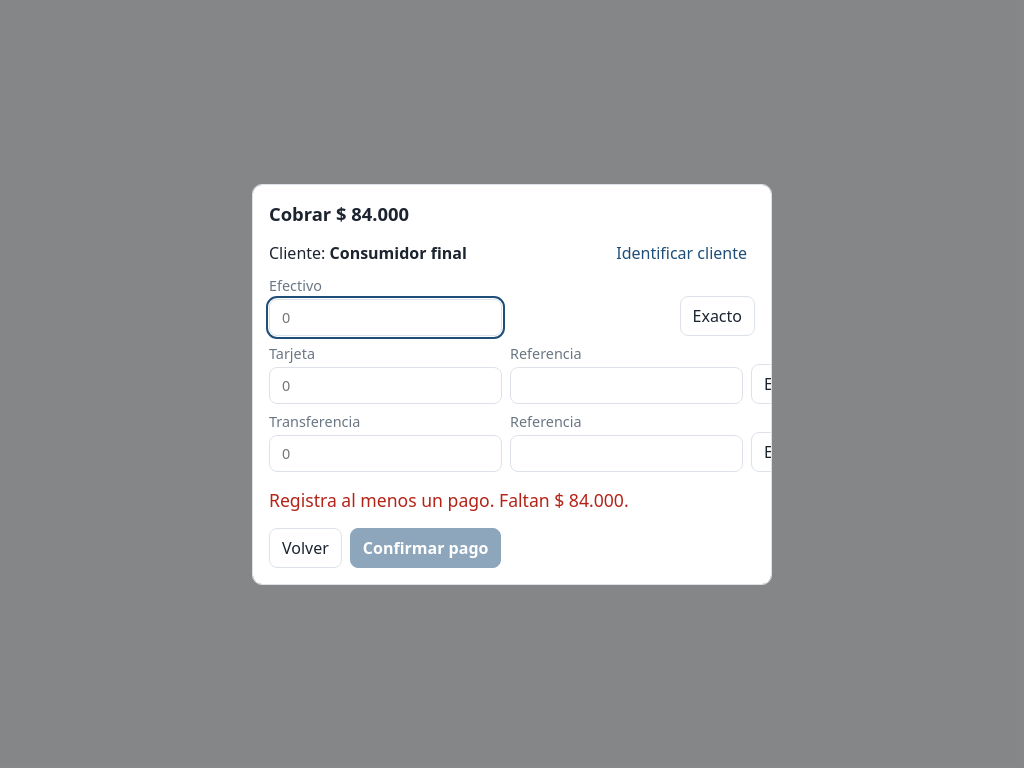
Test: Checkout sin conexión › si no se puede guardar en el equipo, avisa que no entregue la mercancía
Click the 1st button "Exacto".
click(717, 316)  # box [680, 296, 755, 336]
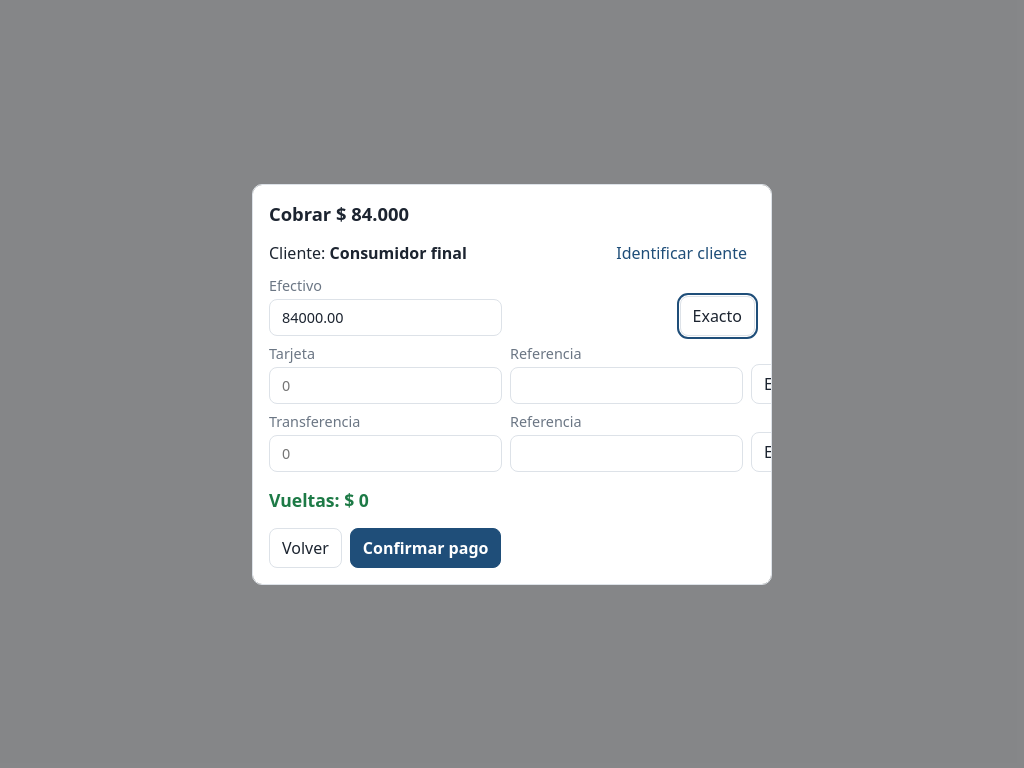
Click the button "Confirmar pago".
click(426, 548)  # box [350, 528, 502, 568]
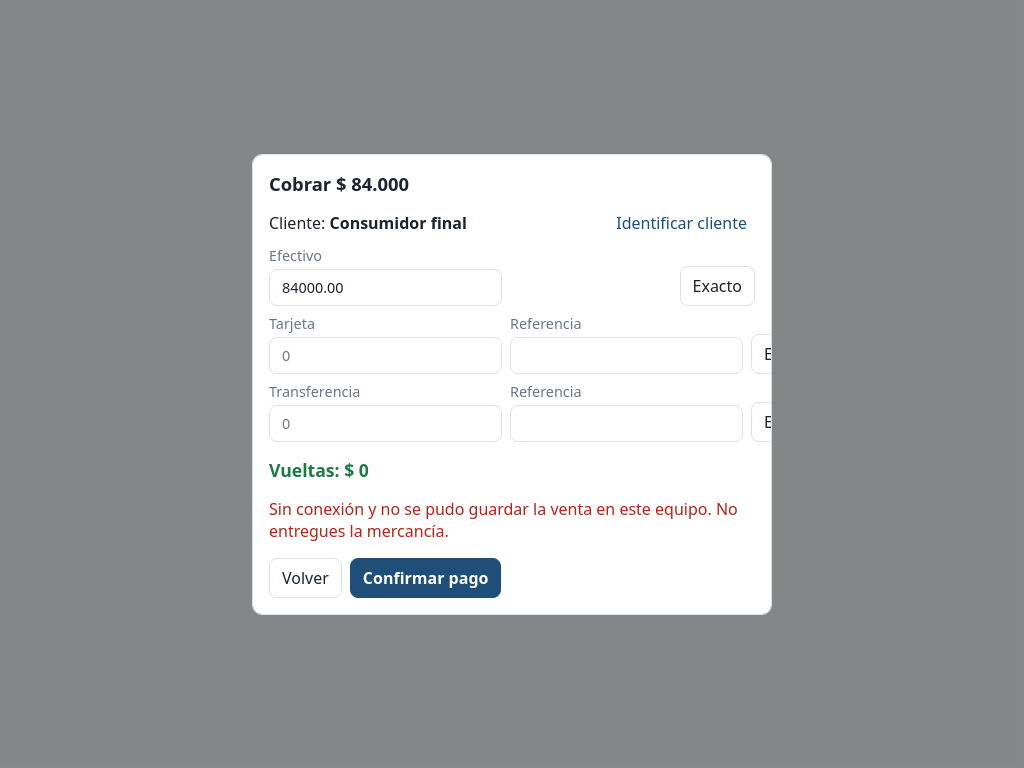
Now the message shows "No entregues la mercancía", box [269, 498, 738, 542]
